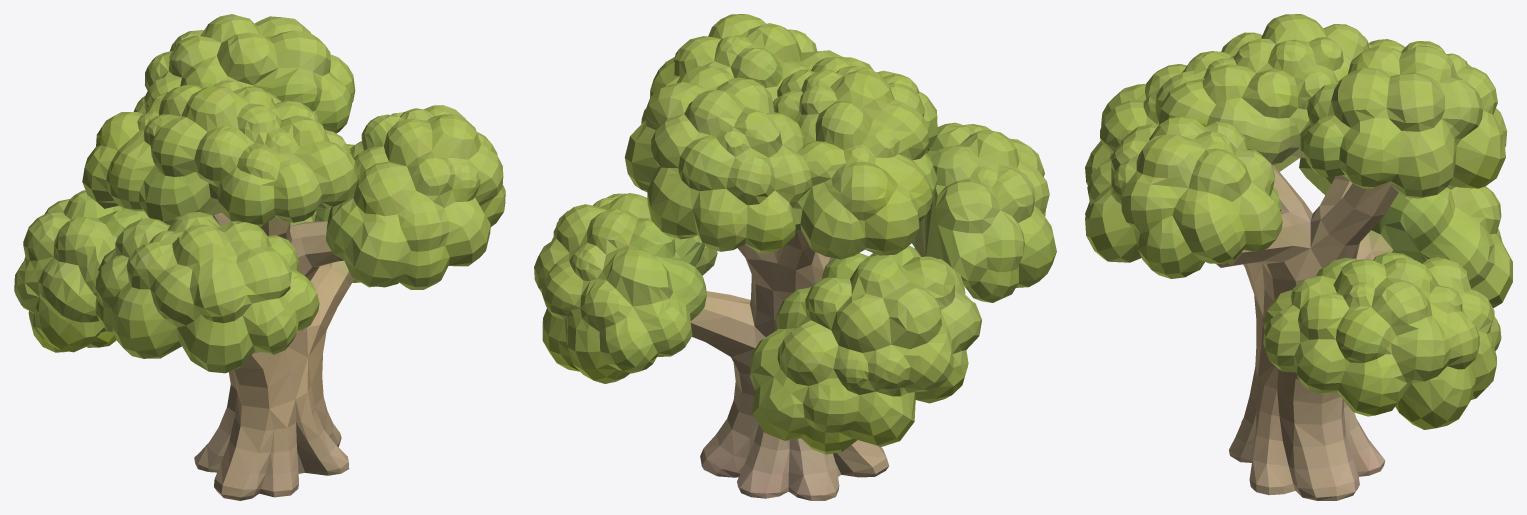
File: oak.glb
The picture shows the model from 3 angles, left to right: view 1: azimuth 30°, elevation 25°; view 2: azimuth 150°, elevation 25°; view 3: azimuth 270°, elevation 25°; orthographic projection. The views are drawn at different scales.
Visible parts, largest first — view 1: geometry_0; view 2: geometry_0; view 3: geometry_0.
Part boxes in pixels (x1,y1,x2,y2): geometry_0: [14, 14, 505, 500]; geometry_0: [534, 14, 1056, 500]; geometry_0: [1085, 14, 1512, 500].
Size of the model in its own units: 0.2119 by 0.1992 by 0.1816.
